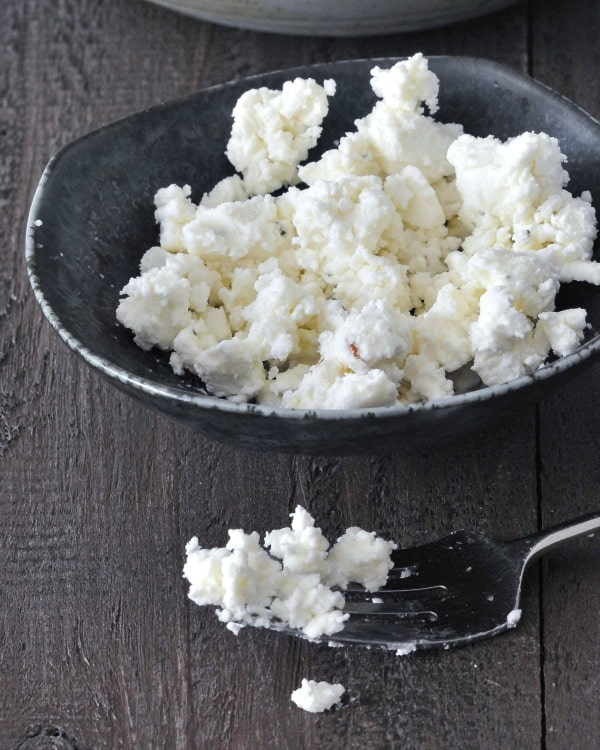cheese: (110, 49, 577, 378), (156, 495, 385, 723)
